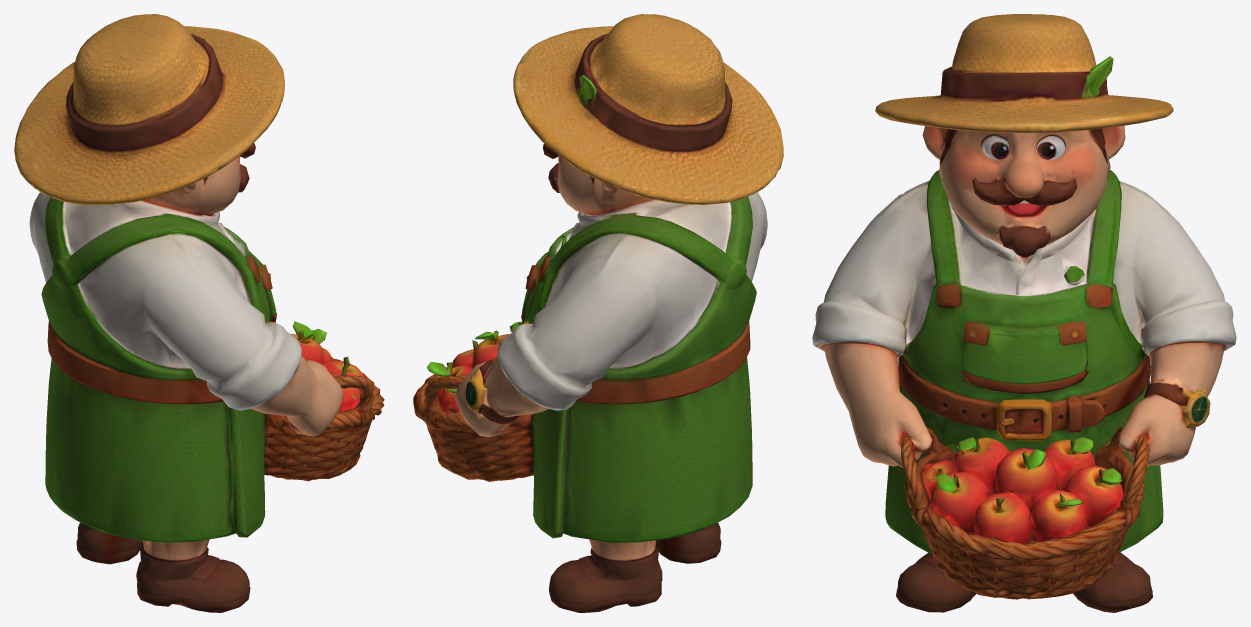
Rendered from fruit_seller.glb.
3 renders of one model, left to right at view 1: azimuth 30°, elevation 25°; view 2: azimuth 150°, elevation 25°; view 3: azimuth 270°, elevation 25°, orthographic. The views are drawn at different scales.
Visible parts, largest first — view 1: tripo_node_56c396d2-29aa-40e9-af4b-0256725b6ca0; view 2: tripo_node_56c396d2-29aa-40e9-af4b-0256725b6ca0; view 3: tripo_node_56c396d2-29aa-40e9-af4b-0256725b6ca0.
Part boxes in pixels (left/top/right/bottom): tripo_node_56c396d2-29aa-40e9-af4b-0256725b6ca0: left=14, top=14, right=384, bottom=612; tripo_node_56c396d2-29aa-40e9-af4b-0256725b6ca0: left=413, top=14, right=783, bottom=612; tripo_node_56c396d2-29aa-40e9-af4b-0256725b6ca0: left=812, top=14, right=1236, bottom=612.
Bounding box in the file's own units: 0.5459 × 0.85 × 0.5715.
Materials: 1 (1 with a texture image).
